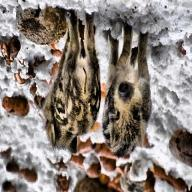boar: (85, 34, 184, 164), (33, 25, 111, 154)
